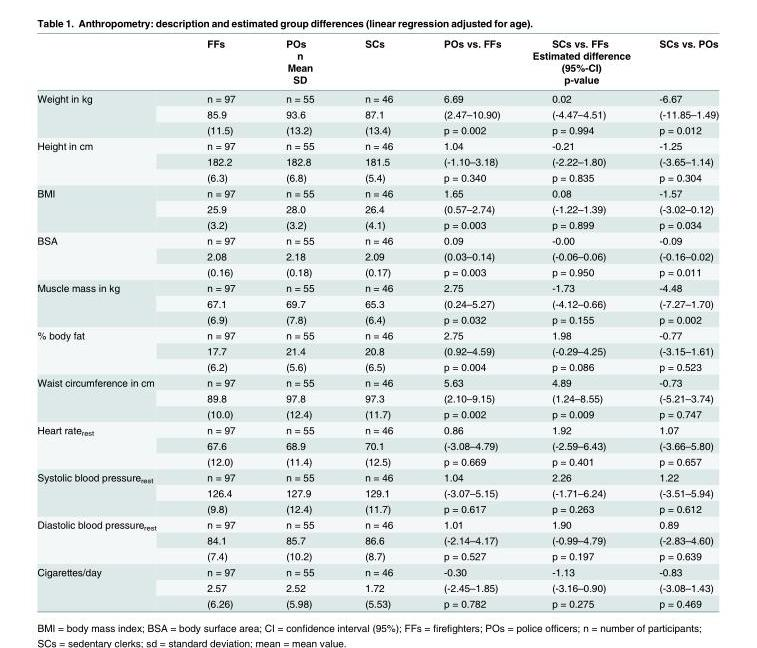table: (36, 37, 718, 608)
table column: (36, 37, 180, 608), (417, 37, 525, 608), (525, 37, 633, 608), (633, 37, 718, 608), (180, 37, 259, 608), (259, 37, 338, 608), (338, 37, 417, 608)
table column header: (36, 37, 718, 88)
table row: (36, 88, 718, 106), (36, 121, 718, 137), (36, 137, 718, 153), (36, 153, 718, 169), (36, 184, 718, 200), (36, 200, 718, 216), (36, 216, 718, 232), (36, 232, 718, 248), (36, 263, 718, 279), (36, 279, 718, 295), (36, 295, 718, 311), (36, 326, 718, 342), (36, 342, 718, 358), (36, 358, 718, 374), (36, 374, 718, 390), (36, 405, 718, 421), (36, 421, 718, 437), (36, 437, 718, 453), (36, 468, 718, 484), (36, 484, 718, 500), (36, 500, 718, 516), (36, 516, 718, 532), (36, 547, 718, 563), (36, 563, 718, 579), (36, 579, 718, 595), (36, 73, 718, 88), (36, 106, 718, 121), (36, 169, 718, 184), (36, 248, 718, 263), (36, 311, 718, 326), (36, 390, 718, 405), (36, 453, 718, 468), (36, 532, 718, 547), (36, 595, 718, 608), (36, 37, 718, 49), (36, 49, 718, 61), (36, 61, 718, 73)
table spanning cell: (417, 49, 718, 88), (180, 49, 417, 88), (36, 88, 180, 137), (36, 184, 180, 232), (36, 326, 180, 374), (36, 468, 180, 516), (36, 137, 180, 184), (36, 232, 180, 279), (36, 279, 180, 326), (36, 374, 180, 421), (36, 421, 180, 468), (36, 516, 180, 563), (36, 563, 180, 608)
